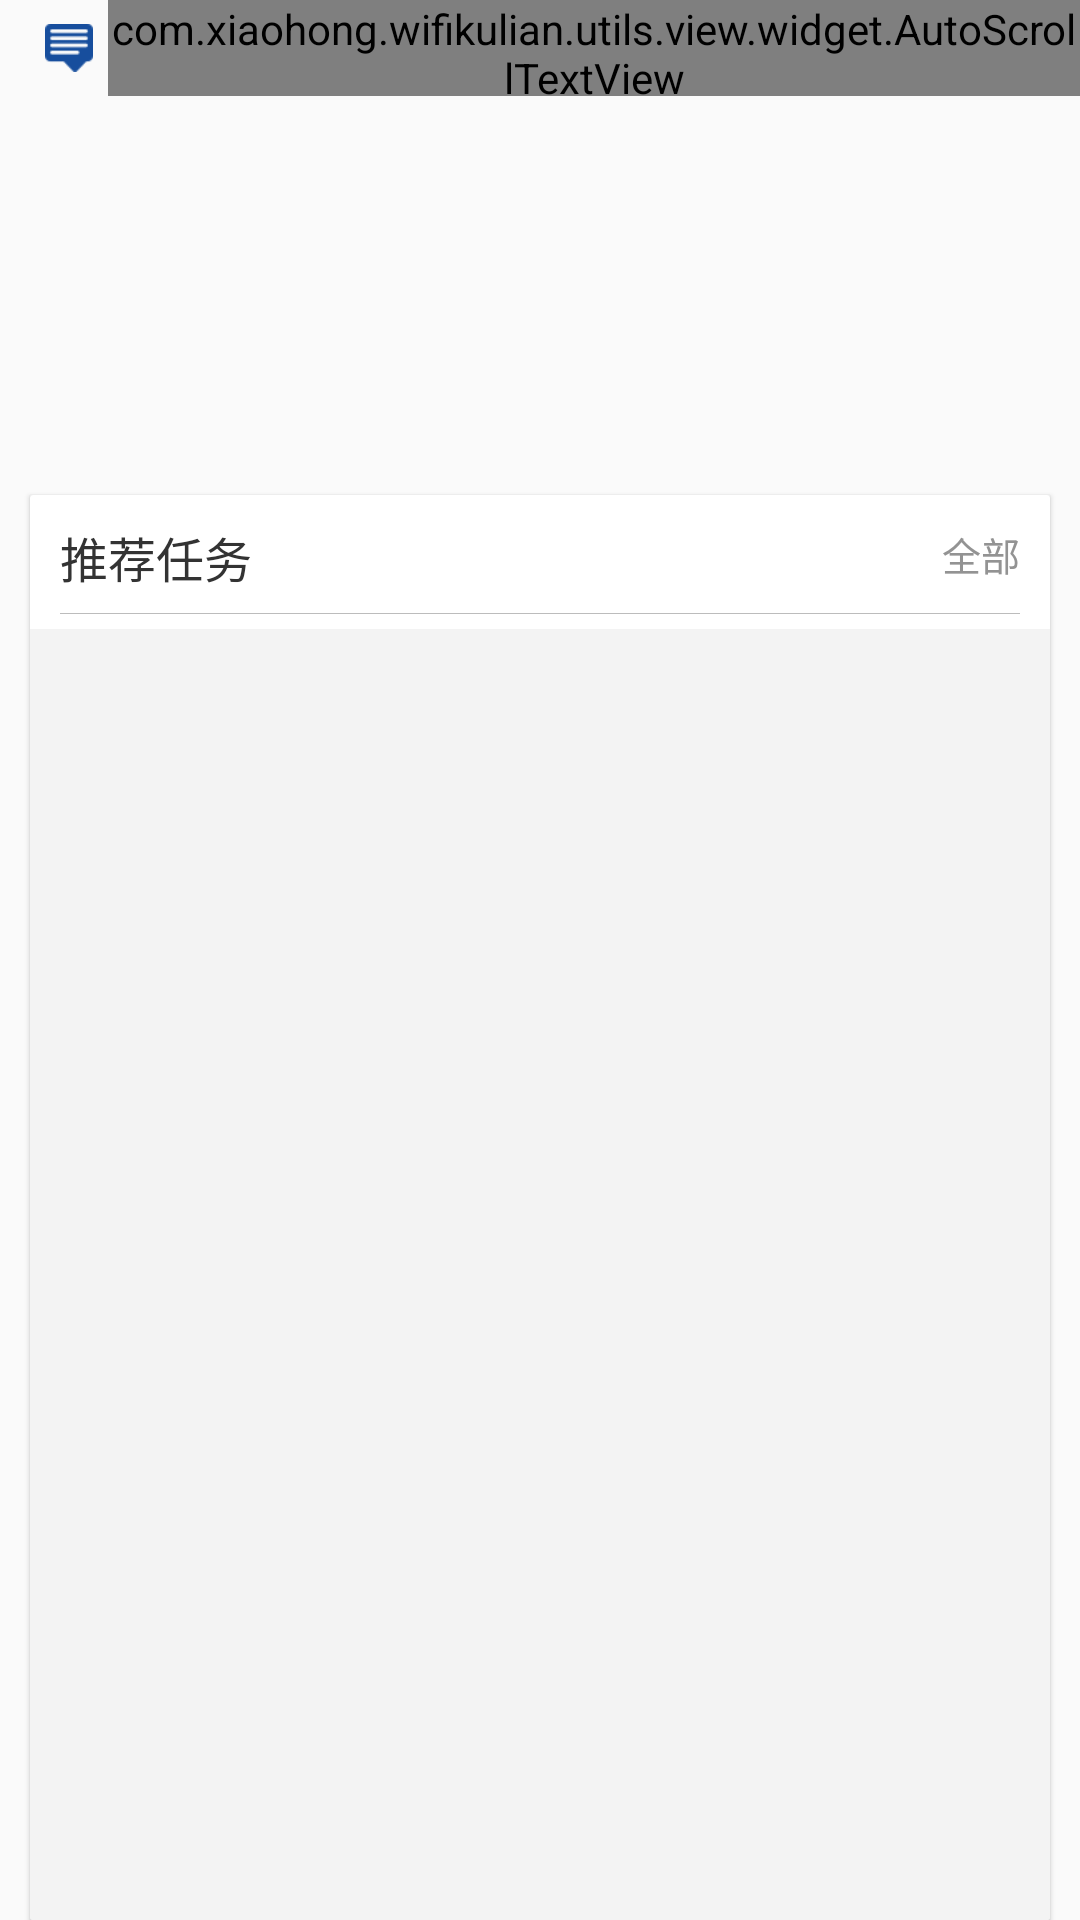

Locate icon controls on the screen. Image size 1080x1920, boxes as (x1, y1, x2, y2).
notice: (45, 24, 93, 72)
